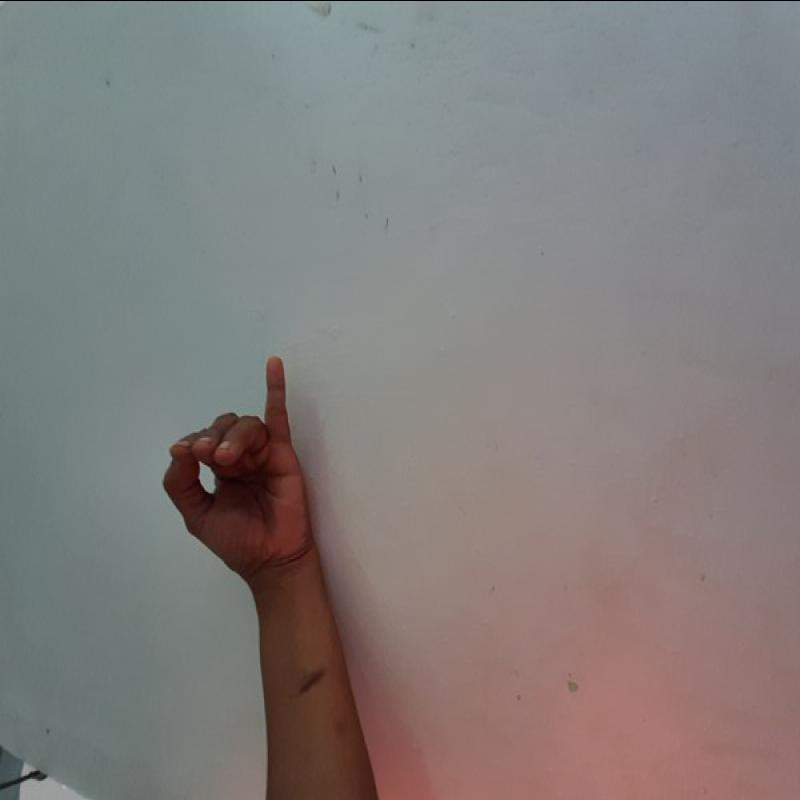Kartharee Mukham: (153, 352, 325, 586)
